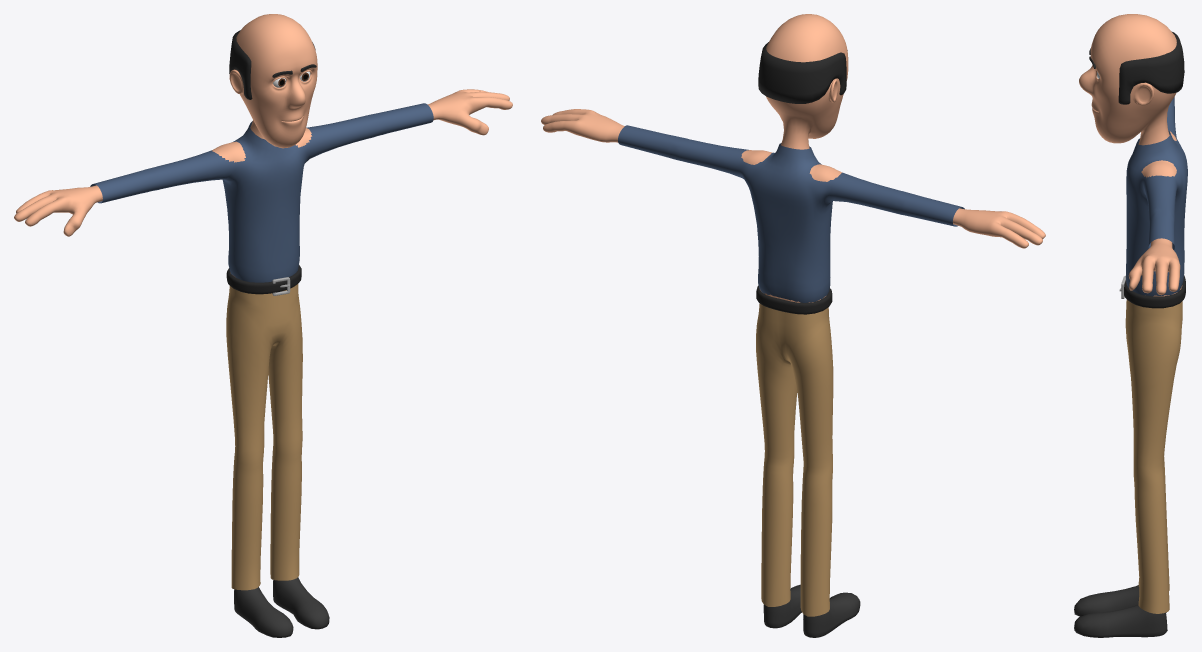
The picture shows the model from 3 angles, left to right: view 1: azimuth 30°, elevation 25°; view 2: azimuth 150°, elevation 25°; view 3: azimuth 270°, elevation 25°; orthographic projection.
Visible parts, largest first — view 1: Head.001_Cube.005, Head_Cube.001, Head.002_Cube.007, Head.003_Cube.008, Hair_Cube.004; view 2: Head.001_Cube.005, Head.002_Cube.007, Head_Cube.001, Hair_Cube.004, Head.003_Cube.008; view 3: Head_Cube.001, Head.001_Cube.005, Head.002_Cube.007, Hair_Cube.004, Head.003_Cube.008.
Part boxes in pixels (x1,y1,x2,y2): Head.001_Cube.005: [226, 284, 302, 590]; Head_Cube.001: [14, 14, 512, 637]; Head.002_Cube.007: [90, 103, 433, 282]; Head.003_Cube.008: [226, 265, 301, 295]; Hair_Cube.004: [229, 30, 315, 99]; Head.001_Cube.005: [756, 304, 833, 616]; Head.002_Cube.007: [618, 125, 964, 302]; Head_Cube.001: [541, 14, 1045, 637]; Hair_Cube.004: [758, 42, 846, 103]; Head.003_Cube.008: [756, 285, 832, 314]; Head_Cube.001: [1074, 14, 1182, 637]; Head.001_Cube.005: [1125, 299, 1182, 613]; Head.002_Cube.007: [1125, 97, 1187, 296]; Hair_Cube.004: [1118, 31, 1184, 104]; Head.003_Cube.008: [1119, 275, 1185, 308].
Size of the model in its own units: 6.02 by 6.93 by 1.18.
